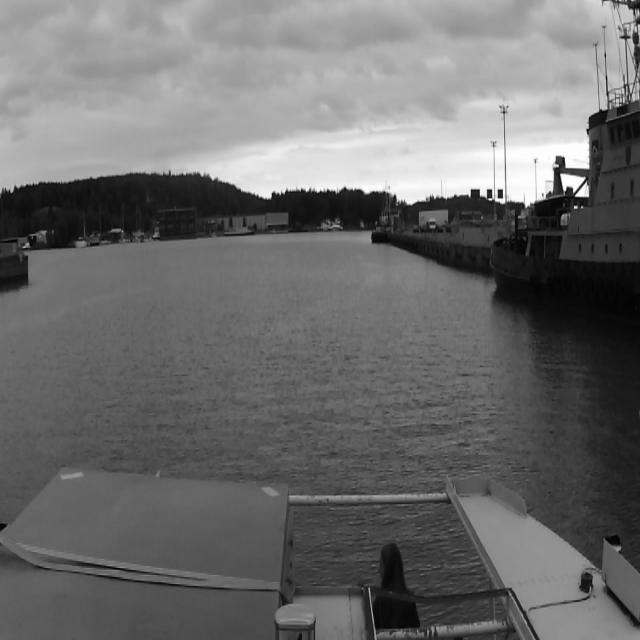ship: (224, 226, 256, 236)
